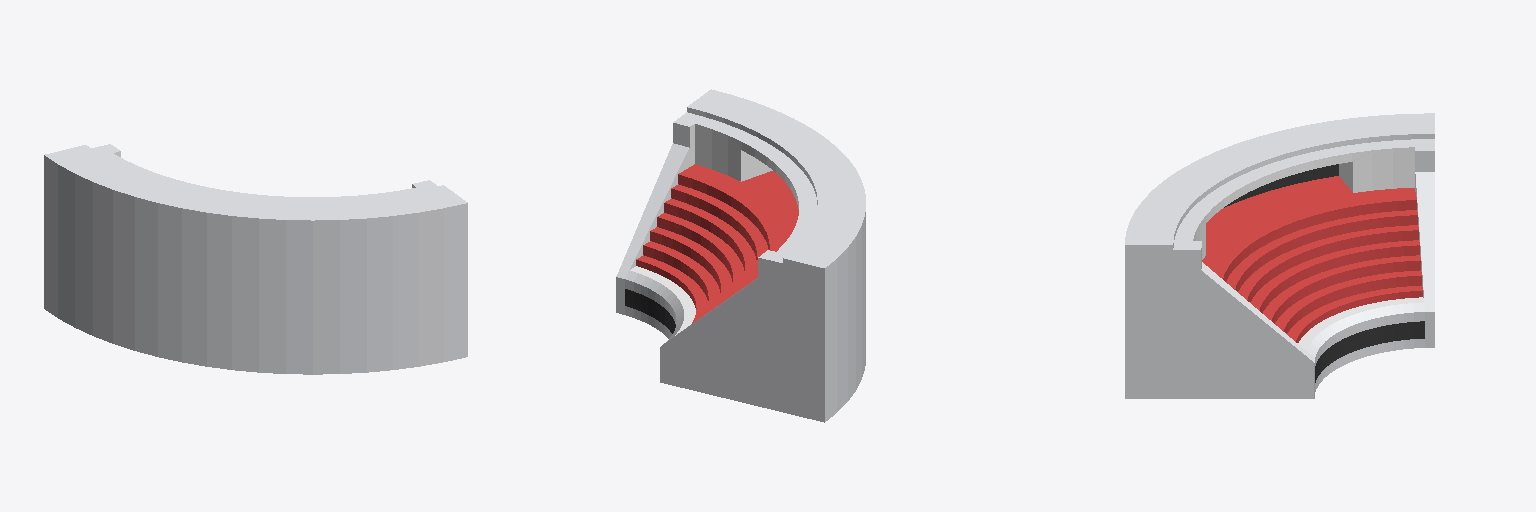
File: grandStandRound.obj
3 views of the same model, side by side, from view 1: azimuth 30°, elevation 25°; view 2: azimuth 150°, elevation 25°; view 3: azimuth 270°, elevation 25° (orthographic).
Parts seen in each view (by area): view 1: grandStandRound; view 2: grandStandRound; view 3: grandStandRound.
Boxes of the visible parts, box(x1,y1,x2,y2) form: grandStandRound: box(44, 144, 467, 374); grandStandRound: box(616, 89, 865, 422); grandStandRound: box(1125, 113, 1434, 398).
Bounding box in the file's own units: 1.64 × 0.8963 × 1.64.